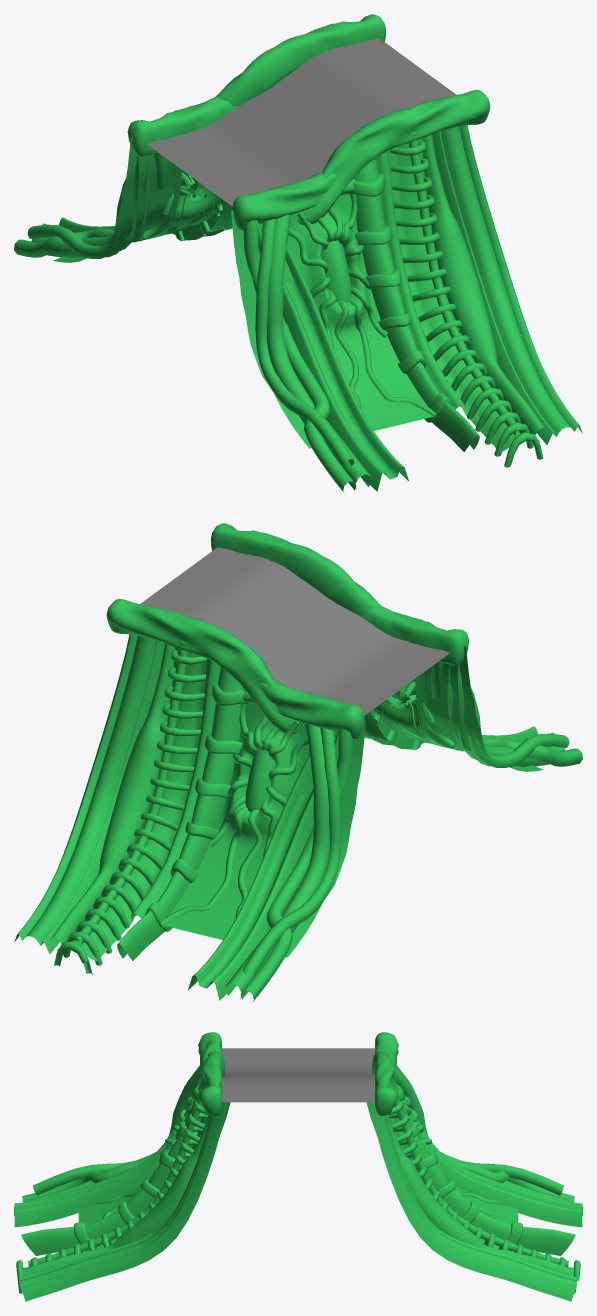
Rendered from Track_alien_05.fbx.
3 views of the same model, one above another, from view 1: azimuth 30°, elevation 25°; view 2: azimuth 150°, elevation 25°; view 3: azimuth 270°, elevation 25° (orthographic). The views are drawn at different scales.
Visible parts, largest first — view 1: Side_Rock_005, Road_005; view 2: Side_Rock_005, Road_005; view 3: Side_Rock_005, Road_005.
Boxes of the visible parts, bbox=[...] form: Side_Rock_005: bbox=[14, 14, 582, 493]; Road_005: bbox=[146, 38, 456, 206]; Side_Rock_005: bbox=[14, 523, 582, 1002]; Road_005: bbox=[140, 547, 450, 715]; Side_Rock_005: bbox=[14, 1032, 582, 1301]; Road_005: bbox=[221, 1048, 375, 1102].
Size of what is drawn, in the model's own units: 3362 by 7599 by 3340.
